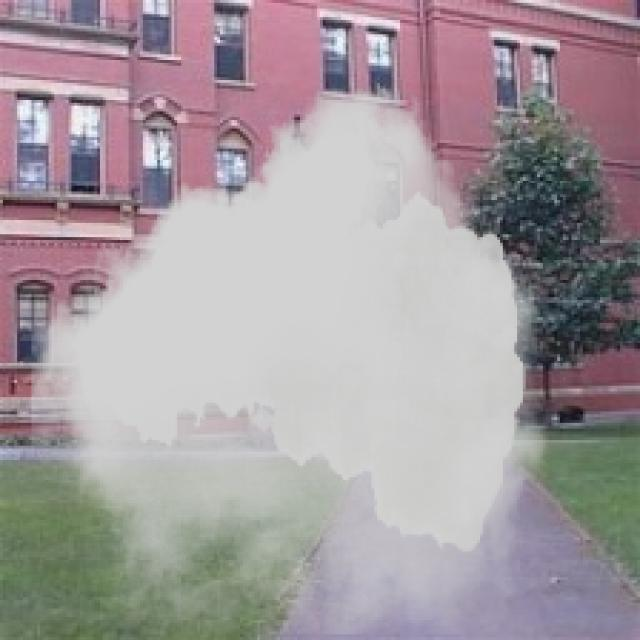smoke: (31, 89, 548, 634)
